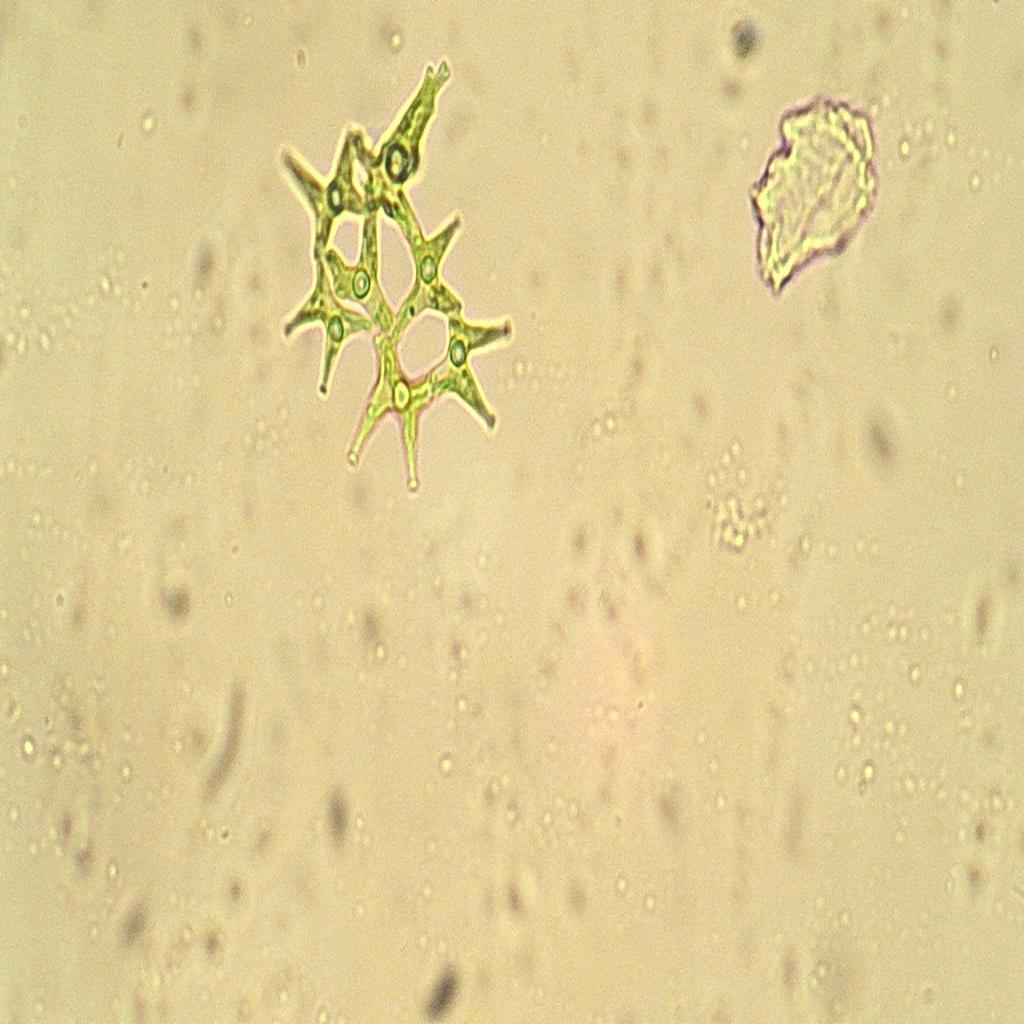Pediastrum_1TH: (264, 36, 525, 505)
